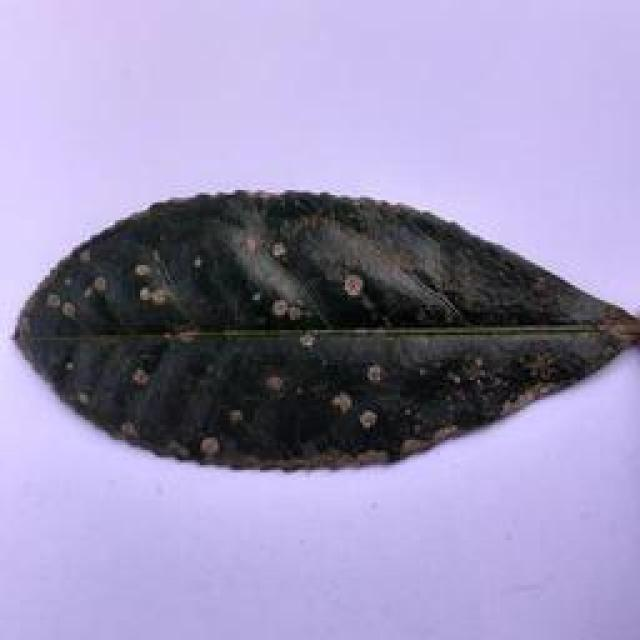Algal Leaf Spot: (12, 187, 638, 479)
